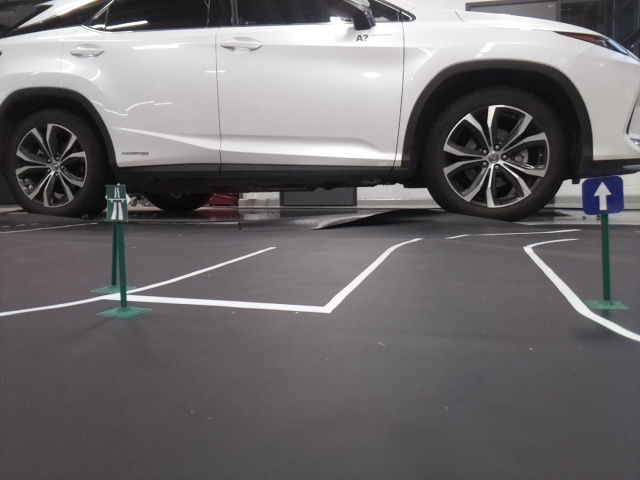OneWay: (583, 179, 621, 210)
